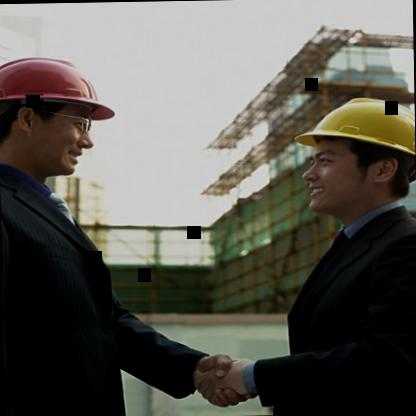helmet: (279, 77, 416, 228), (0, 35, 123, 197)
